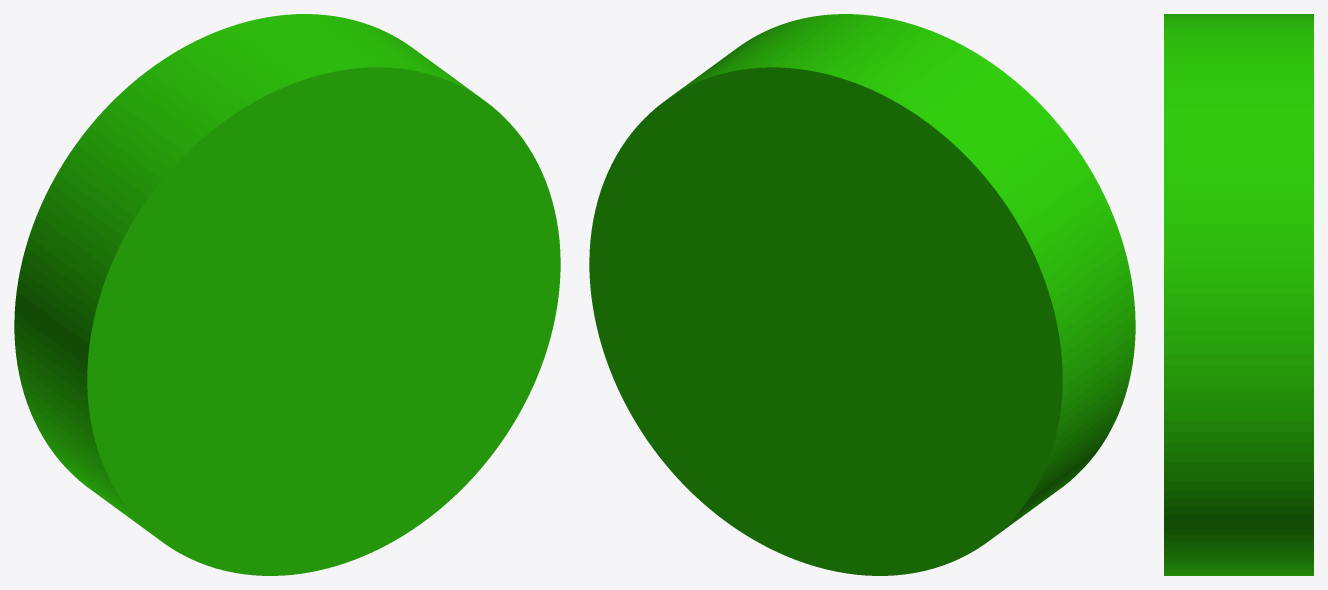
File: Button - red.glb
3 views of the same model, side by side, from view 1: azimuth 30°, elevation 25°; view 2: azimuth 150°, elevation 25°; view 3: azimuth 270°, elevation 25° (orthographic). The views are drawn at different scales.
Visible parts, largest first — view 1: Button - red; view 2: Button - red; view 3: Button - red.
Part boxes in pixels (x1,y1,x2,y2): Button - red: (14,14,560,575); Button - red: (589,14,1135,575); Button - red: (1164,14,1313,575).
Bounding box in the file's own units: 15 × 15 × 4.
